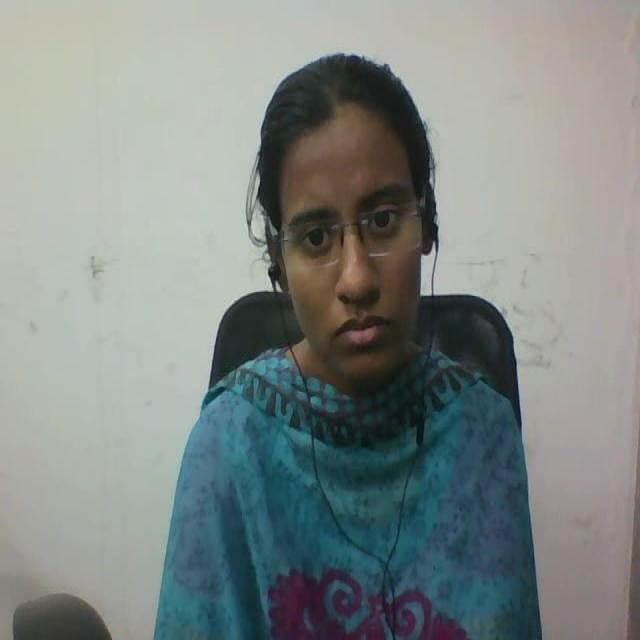Engaged: (225, 47, 473, 399)
